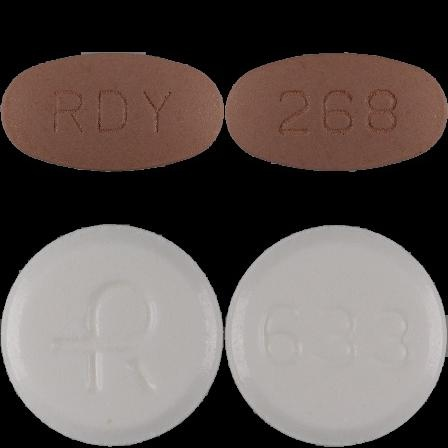0615-6588: (0, 0, 224, 224)
